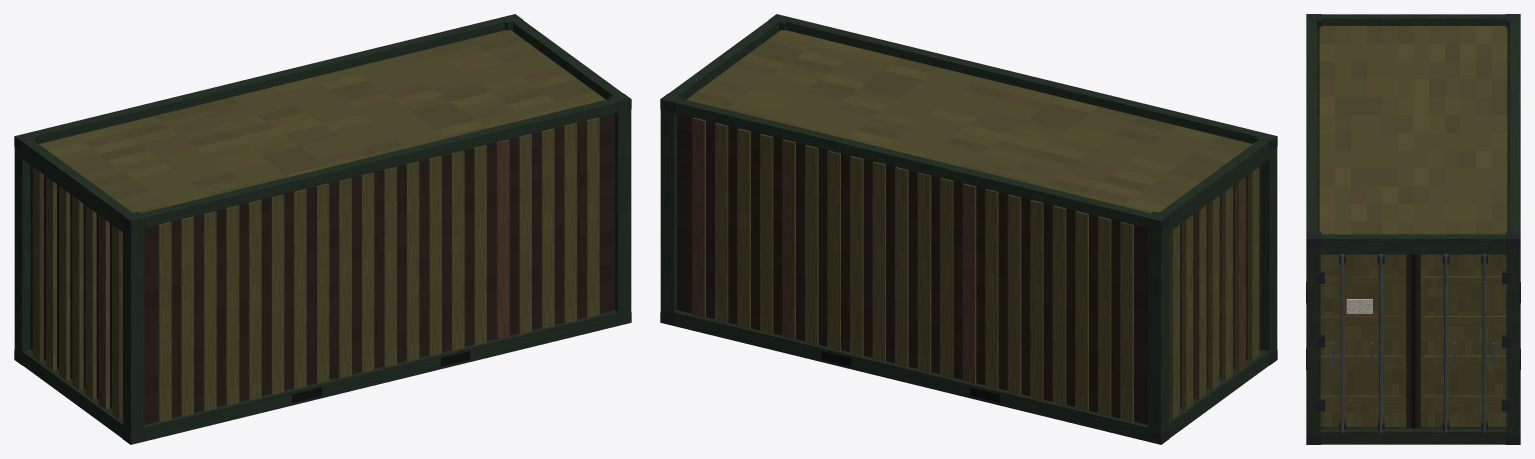
File: conex.glb
The picture shows the model from 3 angles, left to right: view 1: azimuth 30°, elevation 25°; view 2: azimuth 150°, elevation 25°; view 3: azimuth 270°, elevation 25°; orthographic projection. The views are drawn at different scales.
Parts seen in each view (by area): view 1: conex; view 2: conex; view 3: conex.
Part boxes in pixels (x1,y1,x2,y2): conex: (14,14,631,444); conex: (660,14,1277,444); conex: (1306,14,1520,444).
Bounding box in the file's own units: 6.16 × 2.59 × 2.45.
1 material, 1 textured.
